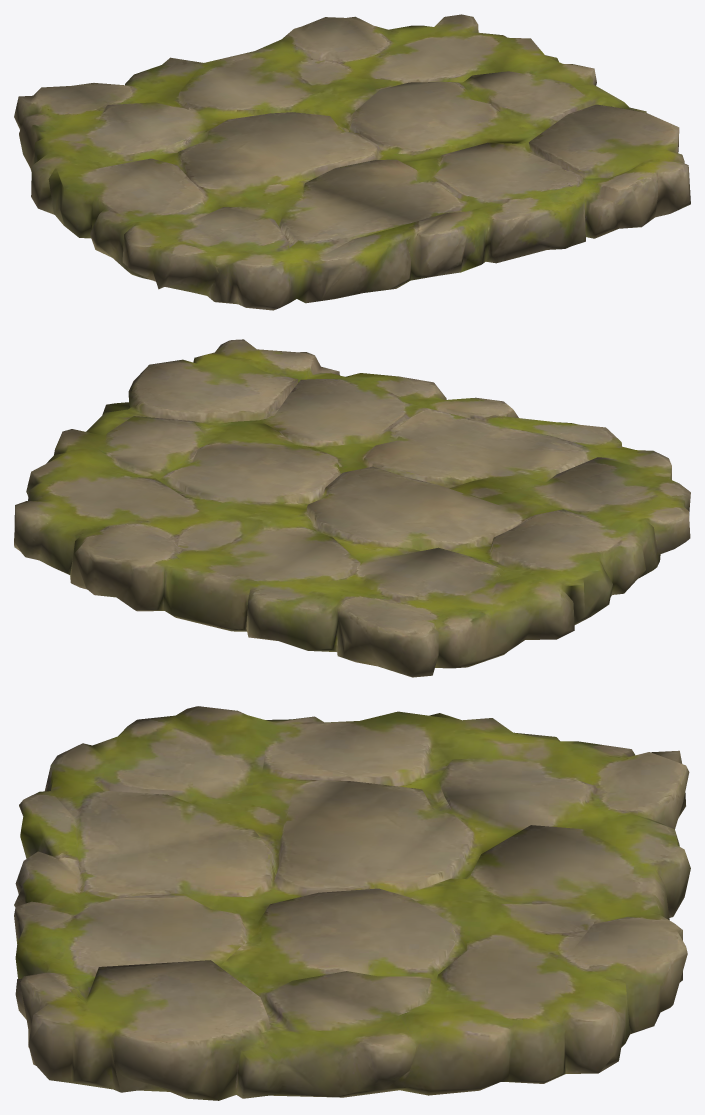
The model's file is SM_FR_Courtyard.fbx.
3 renders of one model, top to bottom at view 1: azimuth 30°, elevation 25°; view 2: azimuth 150°, elevation 25°; view 3: azimuth 270°, elevation 25°, orthographic. The views are drawn at different scales.
Visible parts, largest first — view 1: SM_FR_Courtyard; view 2: SM_FR_Courtyard; view 3: SM_FR_Courtyard.
Boxes of the visible parts, bbox=[...] form: SM_FR_Courtyard: bbox=[14, 14, 690, 310]; SM_FR_Courtyard: bbox=[14, 339, 690, 677]; SM_FR_Courtyard: bbox=[14, 706, 690, 1100].
Size of the model in its own units: 8 by 0.7045 by 6.62.
1 material, 1 textured.
